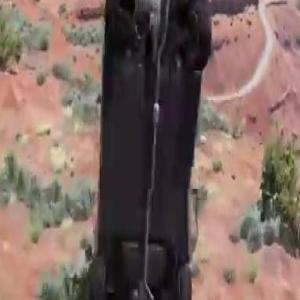severe: (69, 0, 213, 300)
